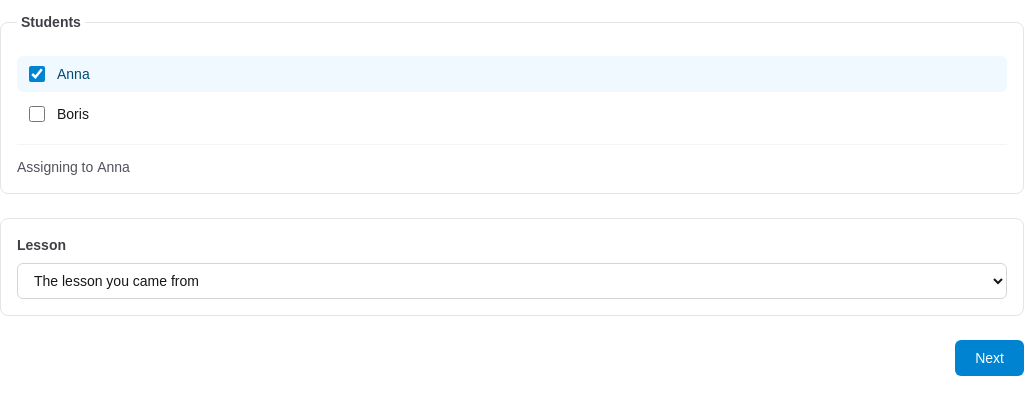
Test: WizardWho › a preselected lesson that is not in the list › lets the teacher detach it, but then refuses to continue
The width and height of the screenshot is (1036, 393).
Select "Choose a lesson…" in the dropdown labelled "Lesson" at (512, 281), box top-left (17, 263), bottom-right (1007, 299)
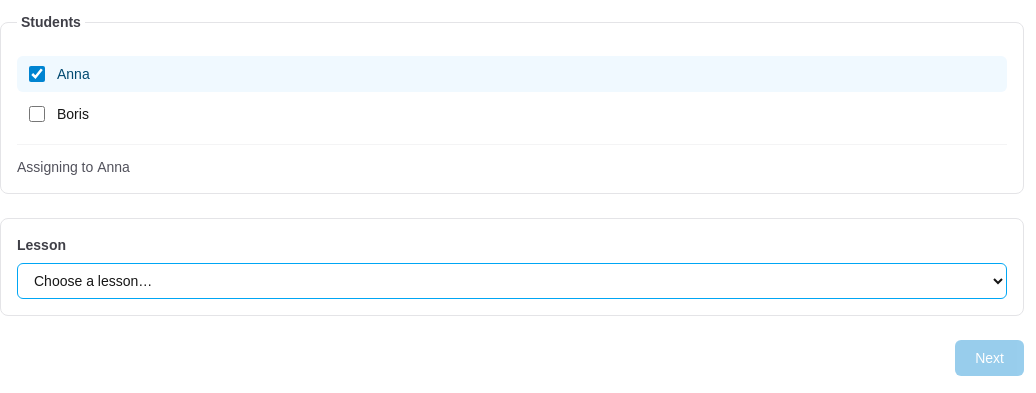
Expected: the button "Next" is disabled, top-left (955, 340), bottom-right (1024, 376)
